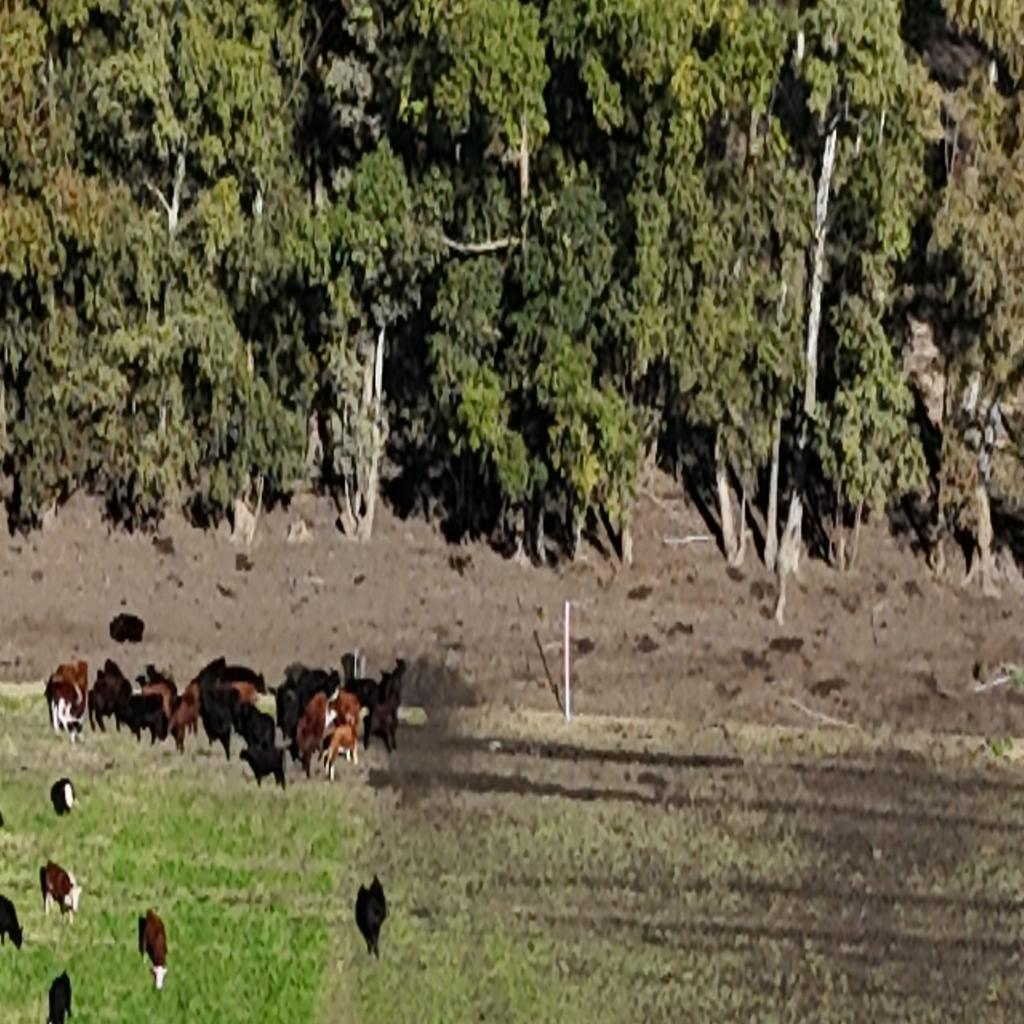cow: (113, 692, 166, 745), (136, 910, 168, 992), (44, 858, 81, 925), (199, 688, 233, 758), (326, 706, 362, 770), (244, 738, 286, 792), (52, 676, 86, 742), (367, 696, 400, 754), (364, 875, 387, 954), (46, 970, 73, 1024), (0, 892, 24, 950), (51, 774, 76, 817)
